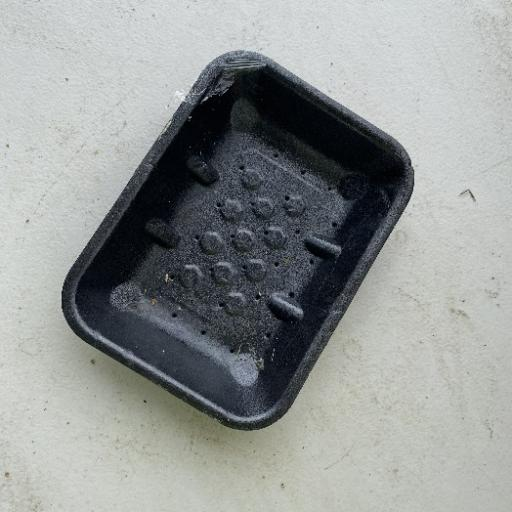Plastic: (60, 48, 416, 432)
